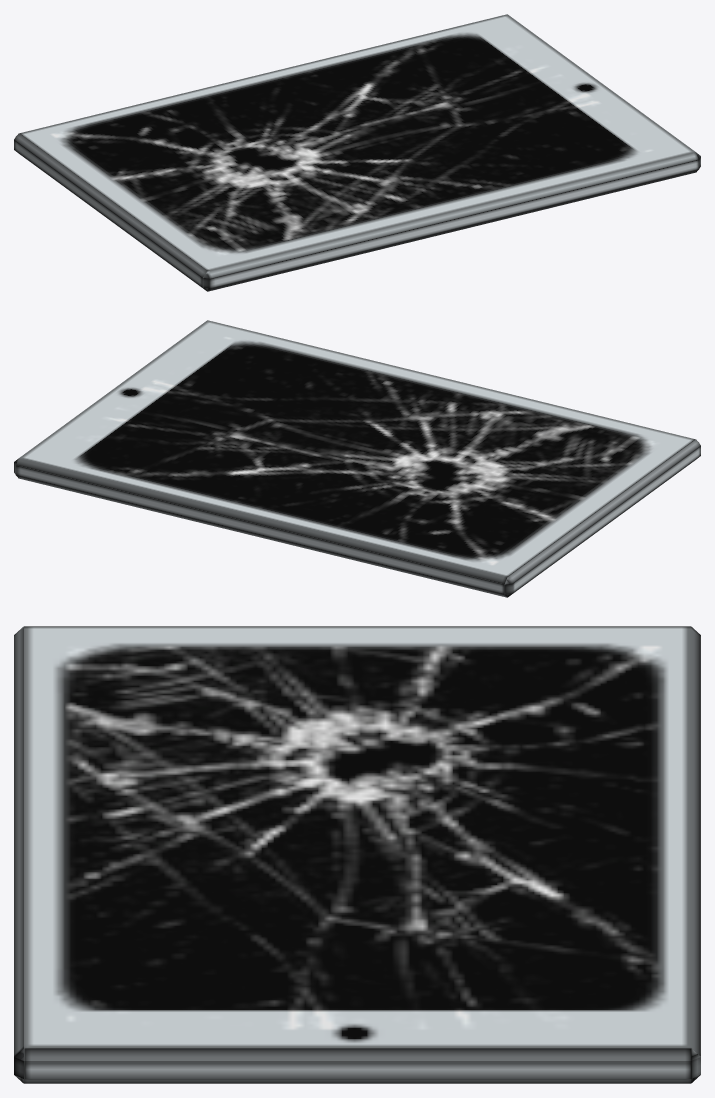
File: Model_Ipad.fbx
3 views of the same model, one above another, from view 1: azimuth 30°, elevation 25°; view 2: azimuth 150°, elevation 25°; view 3: azimuth 270°, elevation 25° (orthographic). The views are drawn at different scales.
Parts seen in each view (by area): view 1: pCube1; view 2: pCube1; view 3: pCube1.
Part boxes in pixels (<box>): pCube1: <box>14,14,700,291</box>; pCube1: <box>14,320,700,597</box>; pCube1: <box>14,626,700,1083</box>.
Bounding box in the file's own units: 1.25 × 0.0485 × 0.8409.
